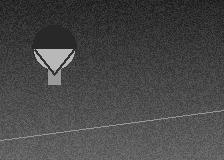helmet: (32, 25, 76, 74)
